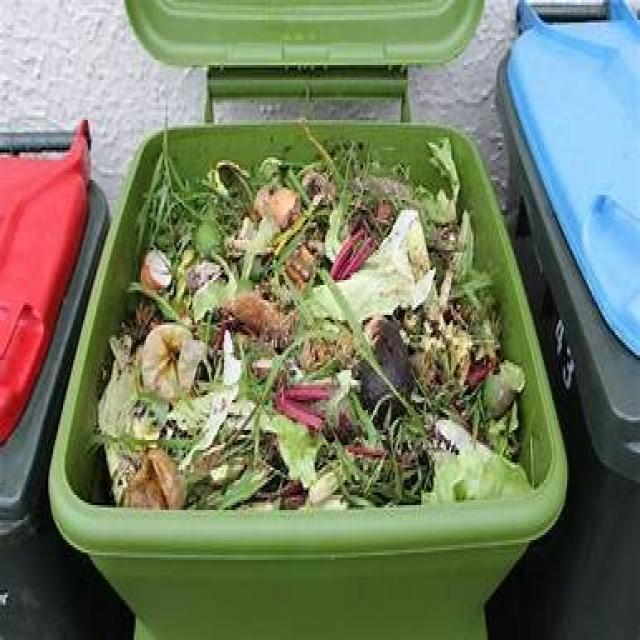Garbage: (95, 128, 535, 512)
